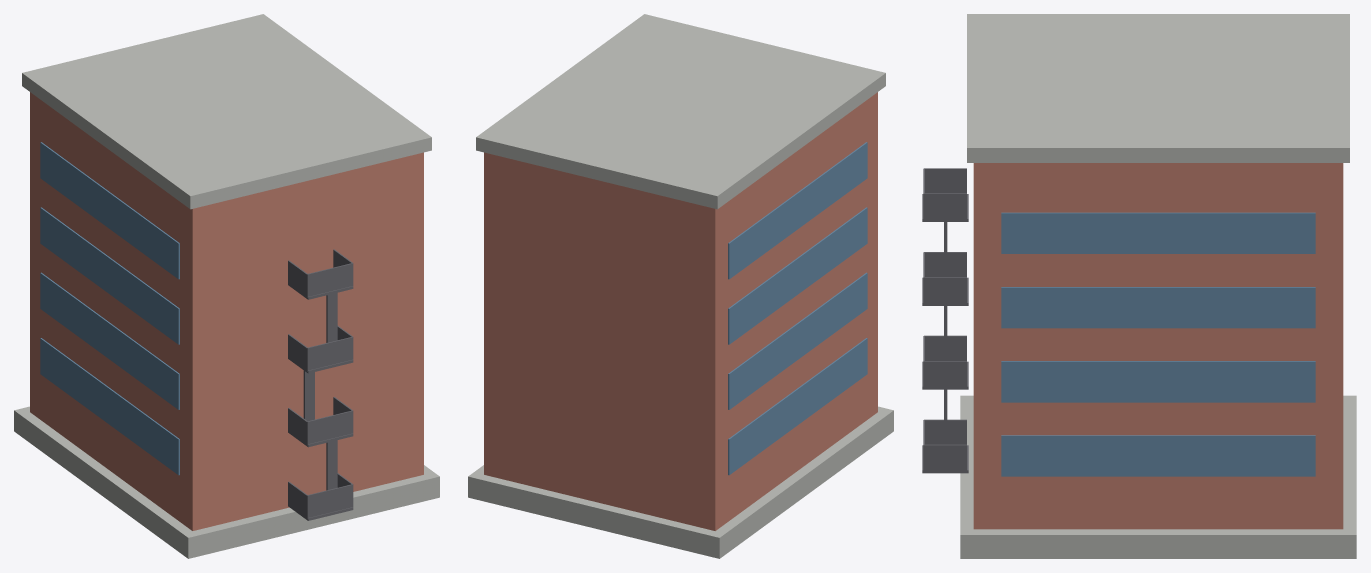
File: apartment_tenement_fireescape.glb
The picture shows the model from 3 angles, left to right: view 1: azimuth 30°, elevation 25°; view 2: azimuth 150°, elevation 25°; view 3: azimuth 270°, elevation 25°; orthographic projection. The views are drawn at different scales.
Parts seen in each view (by area): view 1: apartment_tenement_fireescape; view 2: apartment_tenement_fireescape; view 3: apartment_tenement_fireescape.
Boxes of the visible parts, <box> form: apartment_tenement_fireescape: <box>14,14,439,558</box>; apartment_tenement_fireescape: <box>468,14,893,558</box>; apartment_tenement_fireescape: <box>922,14,1356,558</box>.
Size of the model in its own units: 10 by 13.65 by 13.15.
